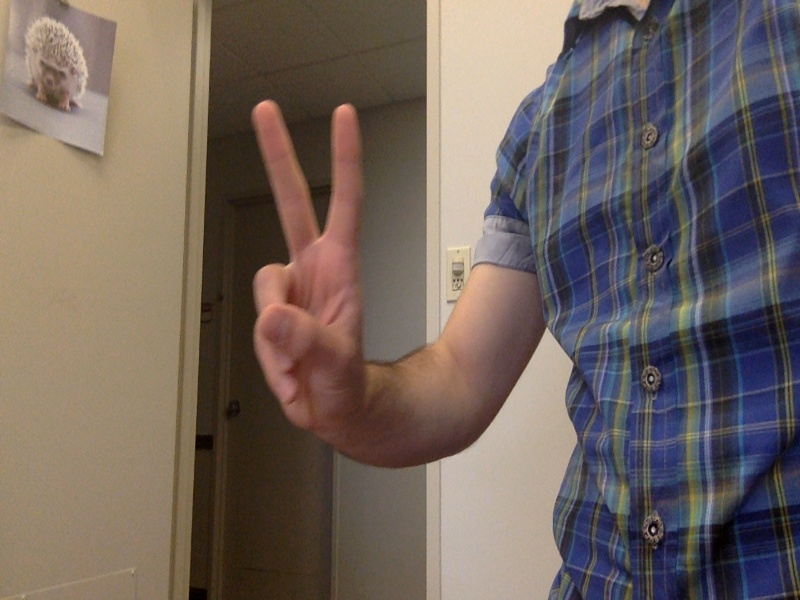2-hand: (244, 98, 371, 432)
